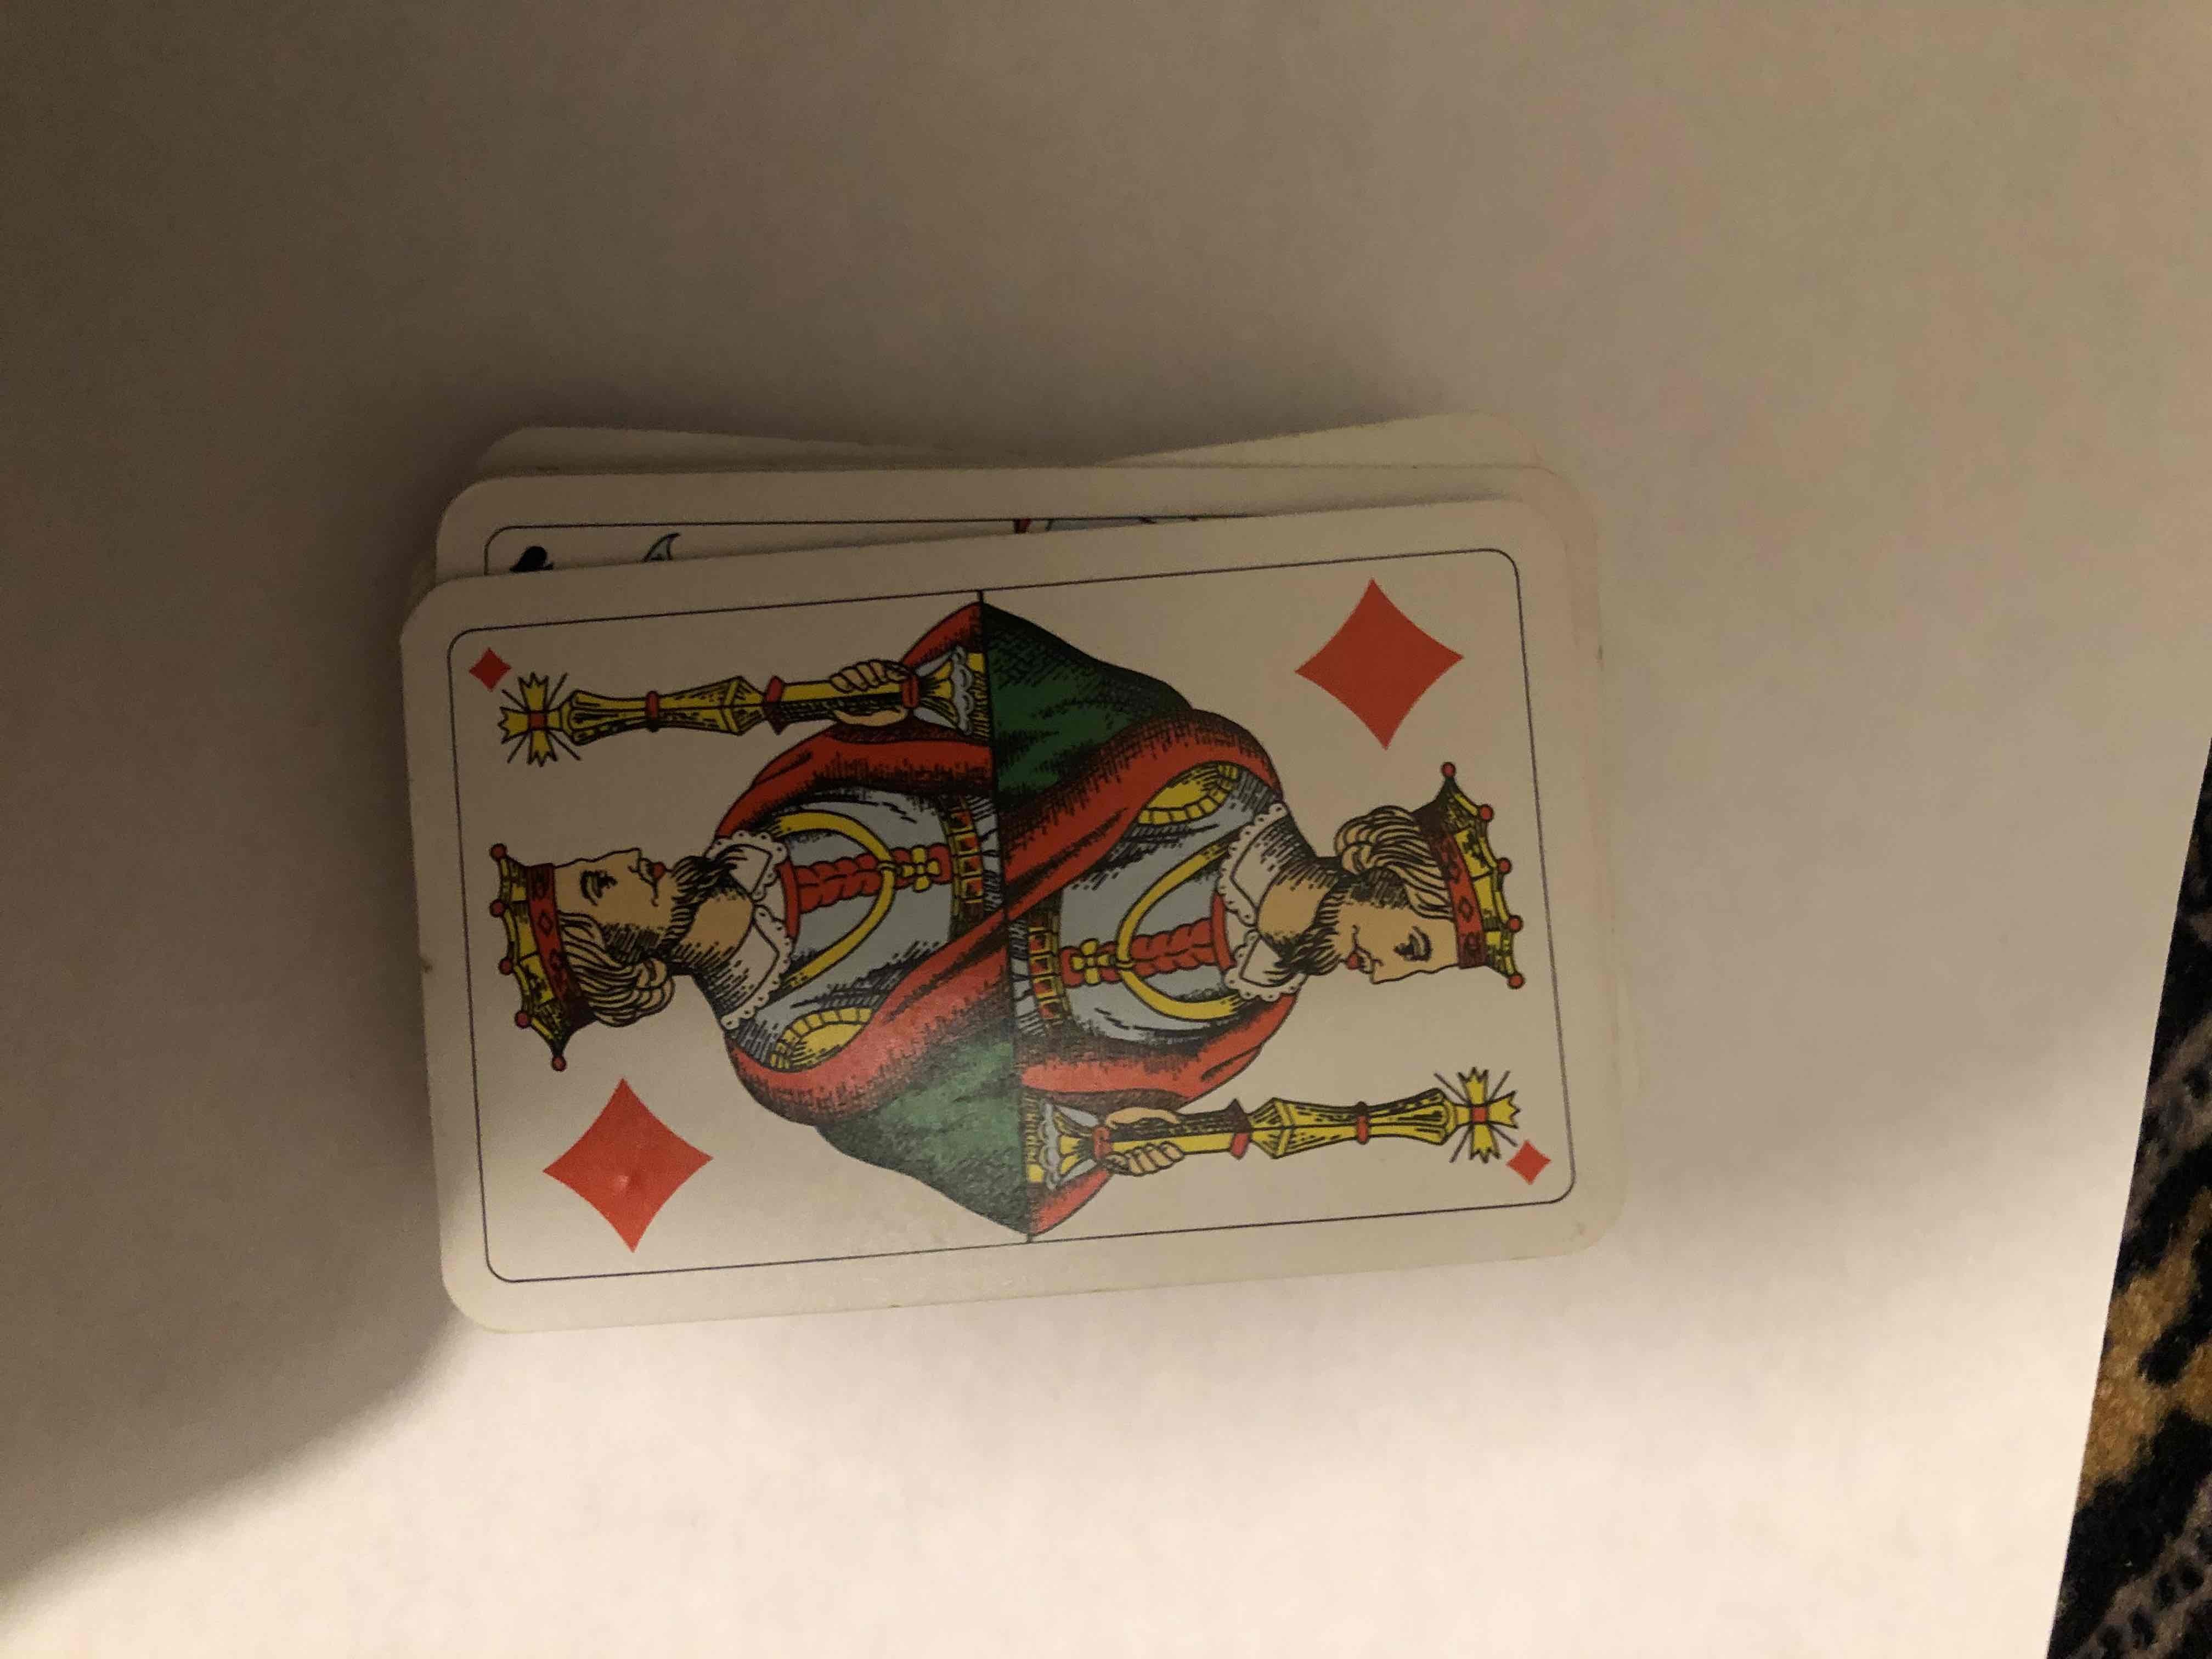diamondKing: (448, 507, 1616, 1317)
